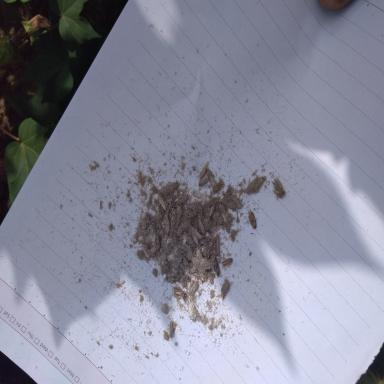pbw: (252, 176, 266, 193), (188, 225, 201, 243), (220, 197, 237, 210), (248, 206, 258, 228), (198, 170, 210, 187), (141, 208, 150, 230), (173, 286, 187, 300), (168, 318, 178, 337), (158, 193, 168, 212), (229, 195, 243, 208), (141, 242, 152, 258), (212, 254, 220, 276), (199, 161, 208, 180), (162, 213, 170, 234), (220, 257, 234, 268), (197, 217, 206, 234), (171, 204, 177, 228), (189, 281, 198, 297), (176, 203, 182, 226), (208, 170, 216, 187), (208, 203, 216, 219), (154, 233, 161, 251), (216, 234, 221, 256), (166, 273, 178, 282), (150, 244, 158, 255)
